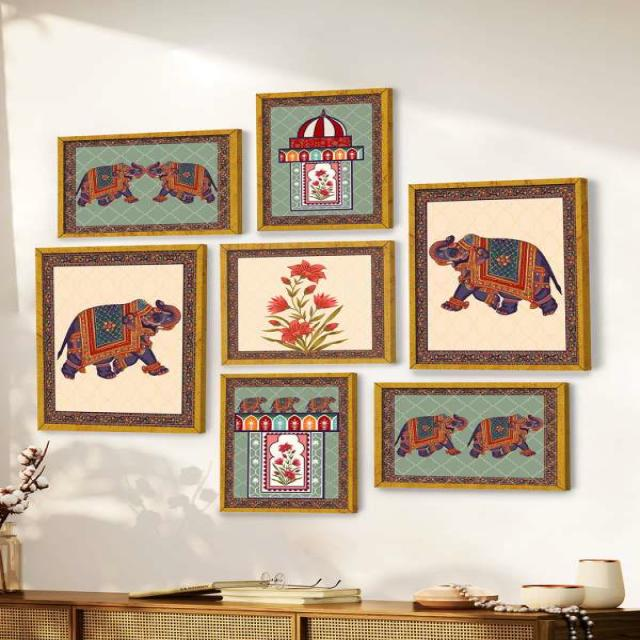painting: (408, 178, 585, 371), (36, 243, 201, 432), (221, 239, 394, 365), (375, 382, 566, 490), (56, 127, 240, 238), (255, 88, 389, 230), (220, 371, 354, 512)
